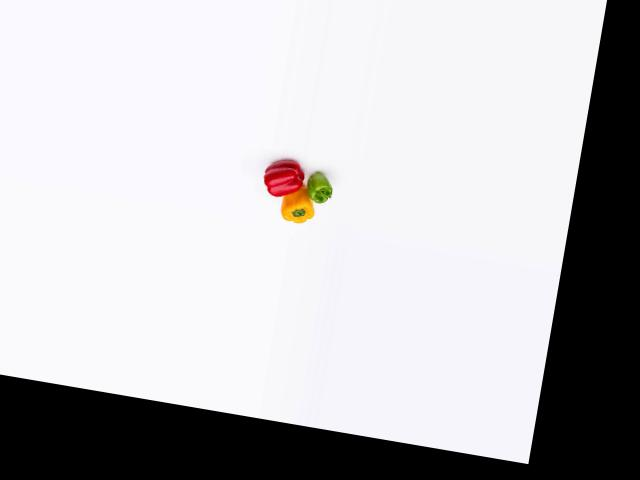bell_pepper: (302, 169, 342, 208)
